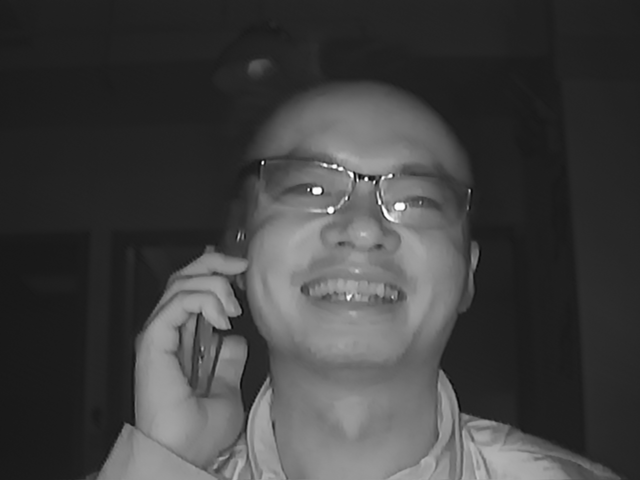hand: (126, 247, 255, 447)
